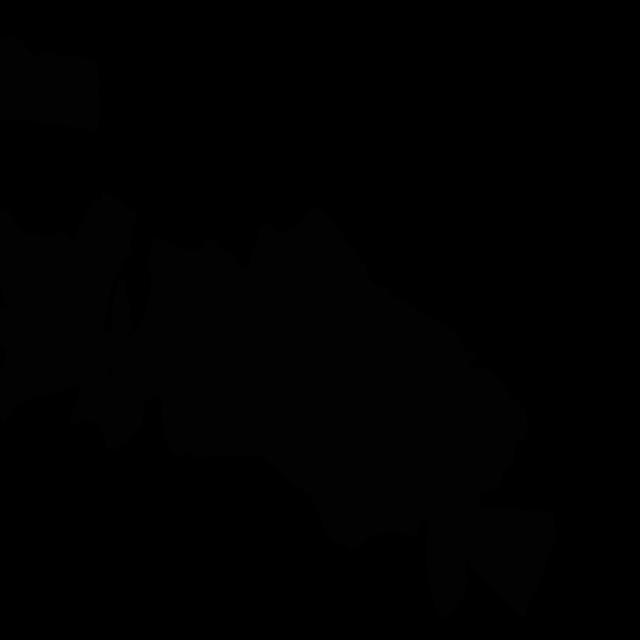cardboard: (108, 207, 528, 620), (0, 192, 138, 333), (0, 281, 112, 423), (465, 507, 557, 618), (0, 37, 100, 131), (68, 373, 144, 452), (110, 279, 134, 352)
